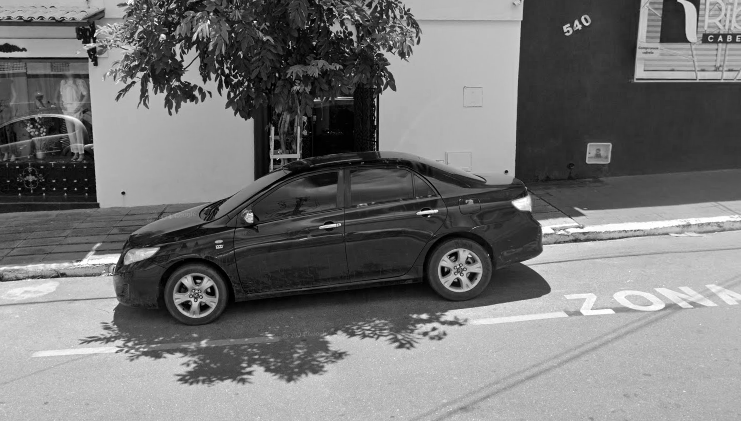car: (107, 146, 546, 330)
